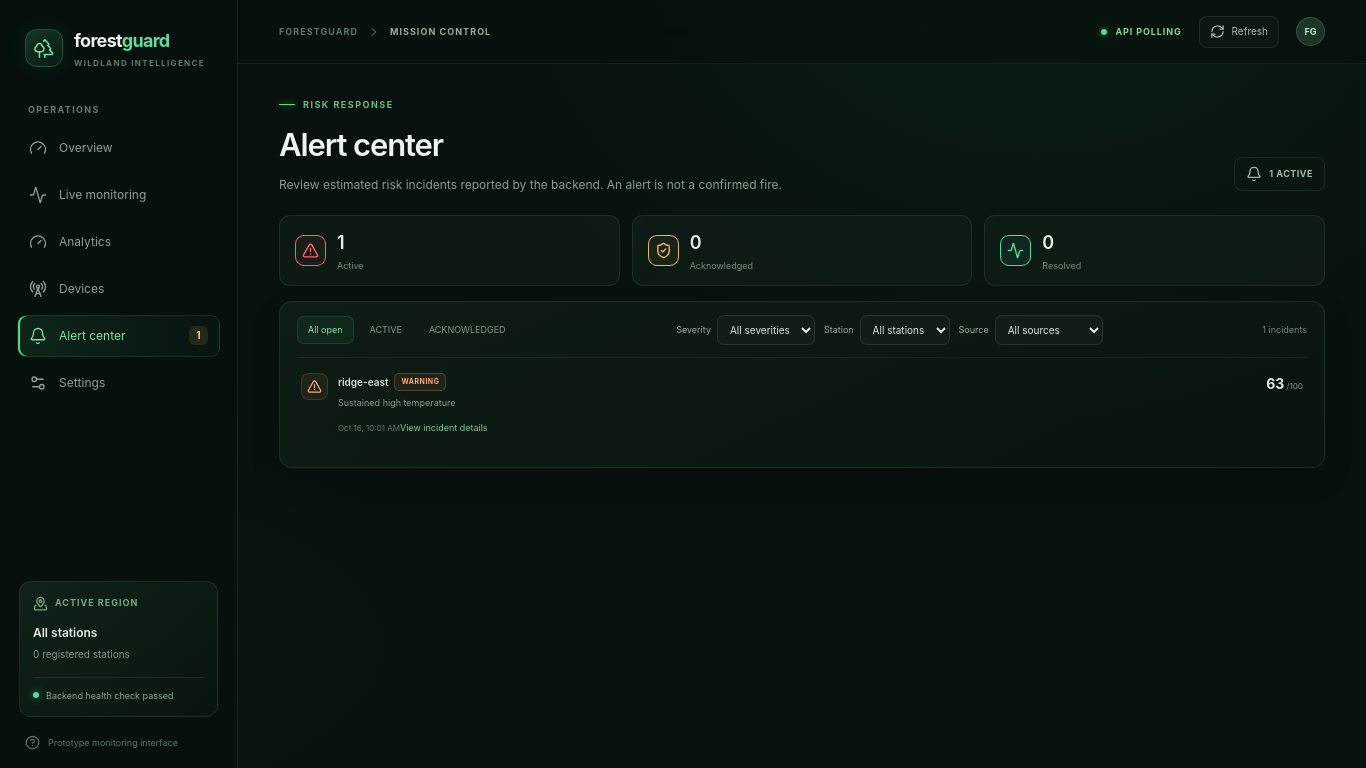
Test: mission control interface › opens alert details and acknowledges an active alert through the API client
Click the button "View incident details" at (444, 428), box top-left (400, 421), bottom-right (488, 434)
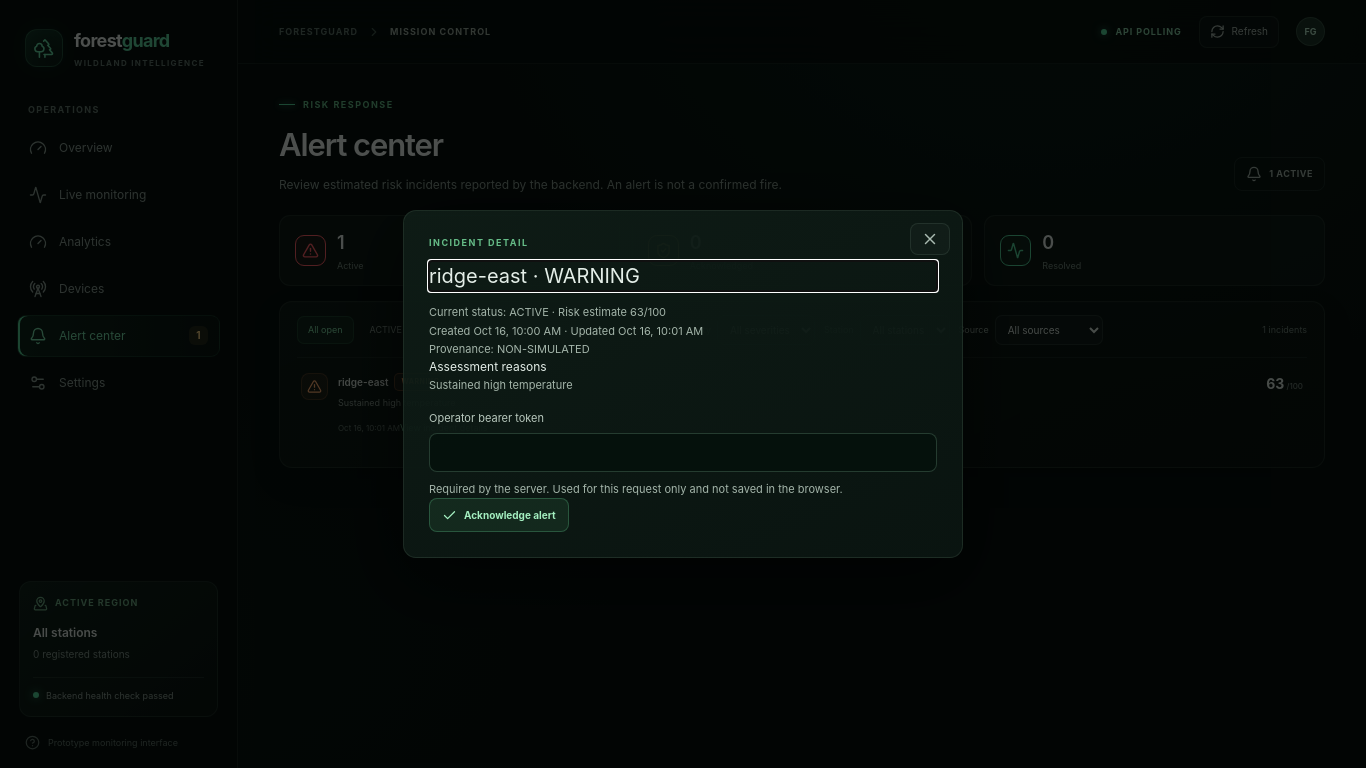
Expected: the dialog shows "Sustained high temperature", top-left (429, 378), bottom-right (573, 392)
Type "operator-secret" into the password field labelled "Operator bearer token" at (683, 453), box top-left (429, 434), bottom-right (937, 472)
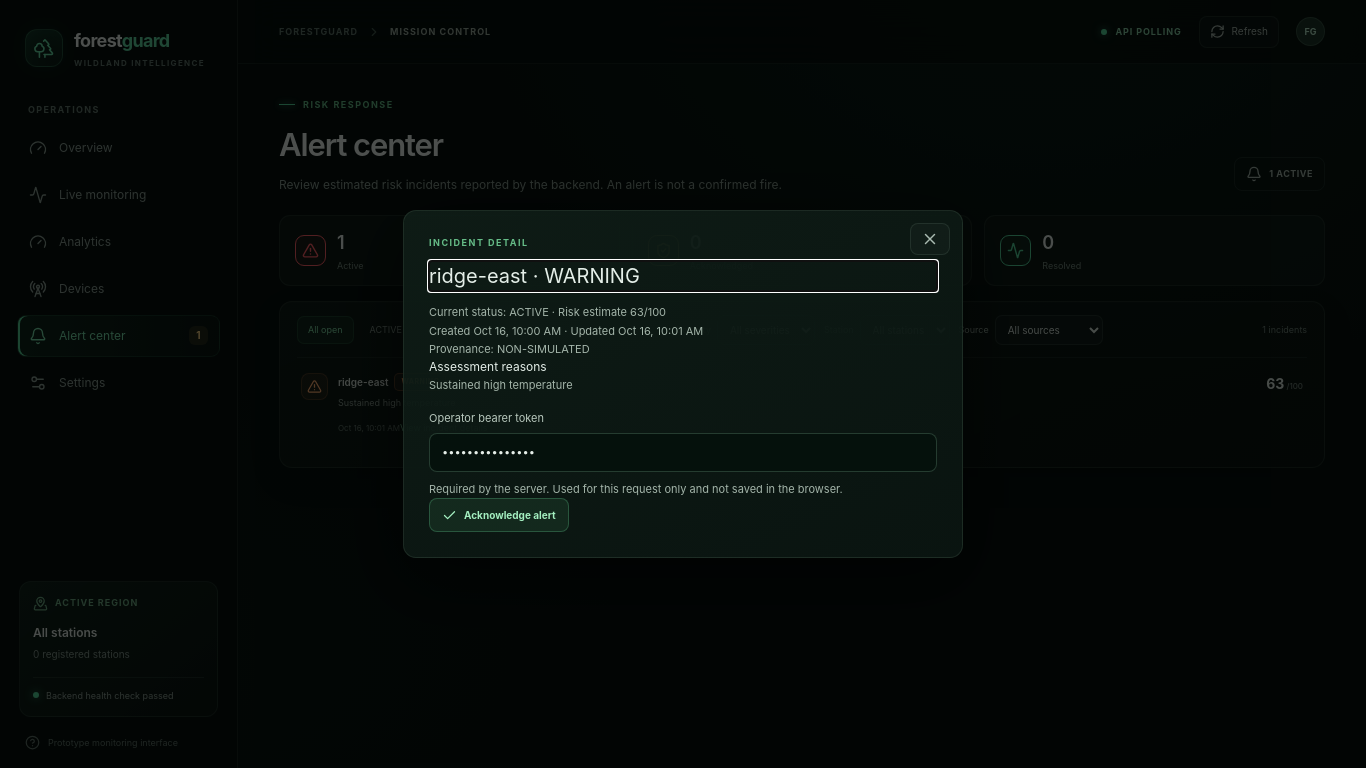
Click the button "Acknowledge alert" at (499, 515), box top-left (429, 498), bottom-right (569, 532)
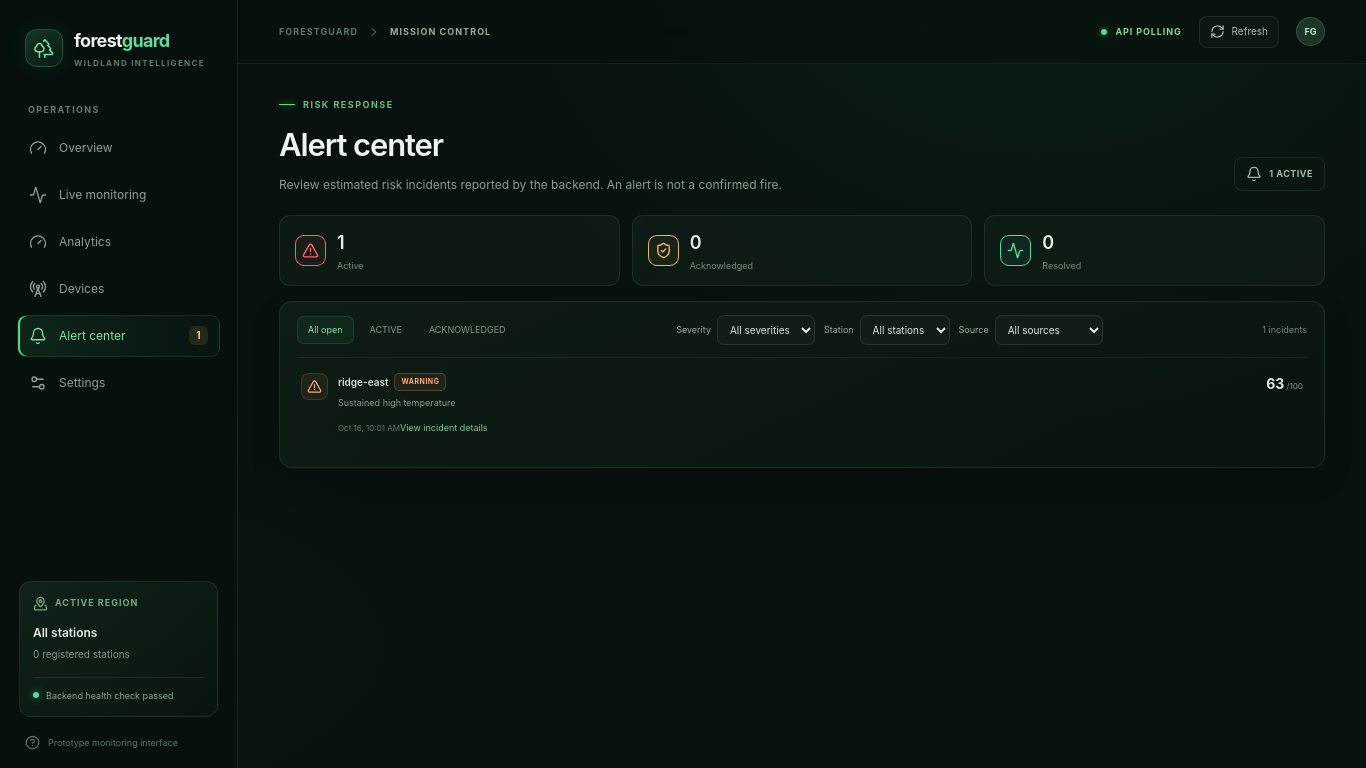
Expected: the dialog is gone
